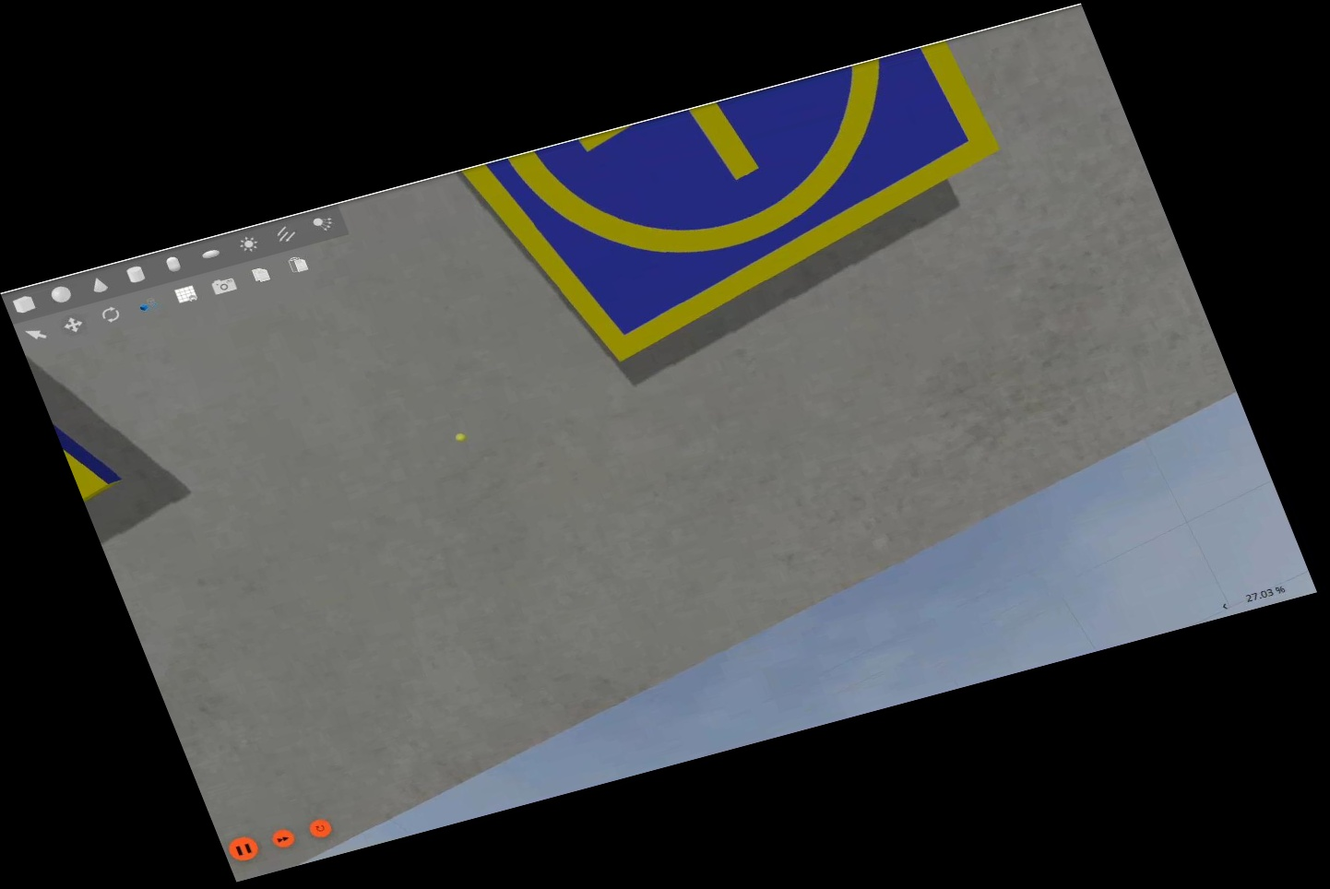small_base: (457, 37, 1040, 385)
